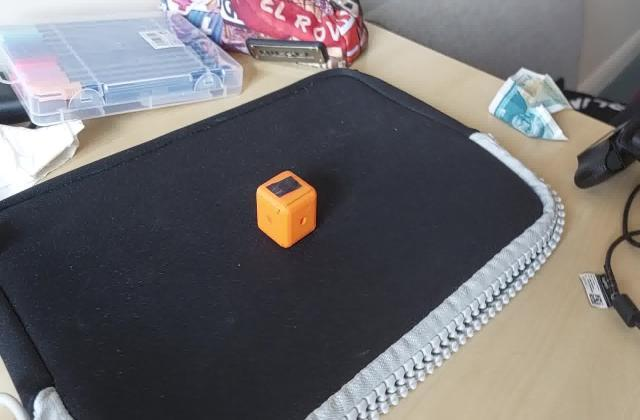black: (266, 177, 302, 199)
cube: (253, 168, 320, 250)
